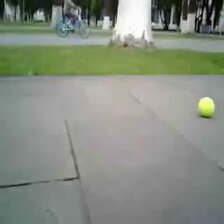tennis: (198, 97, 215, 118)
